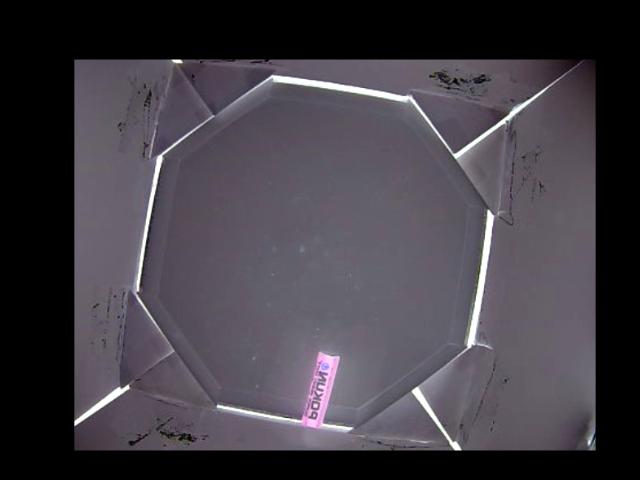Battery: (301, 350, 339, 429)
